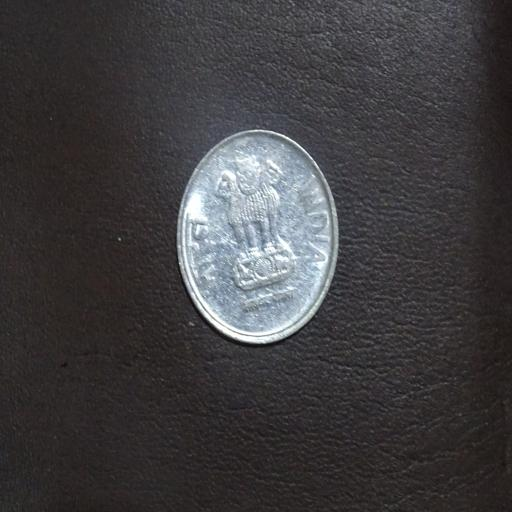rupee1: (175, 130, 338, 343)
